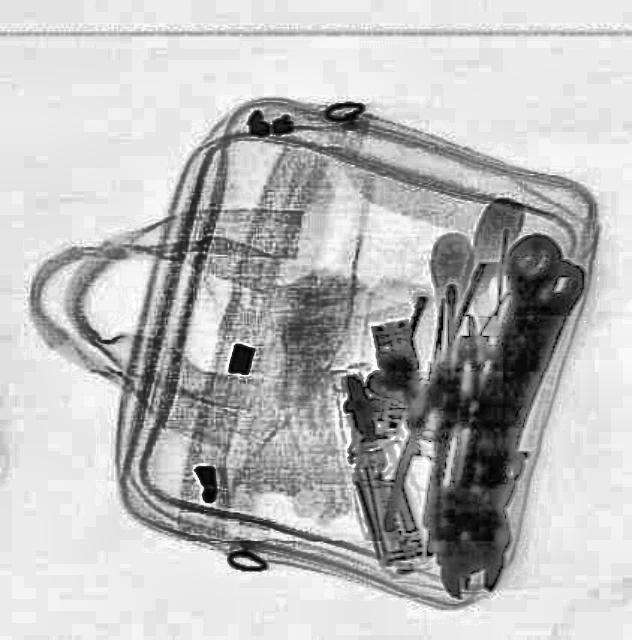Wrench: (429, 227, 573, 606)
